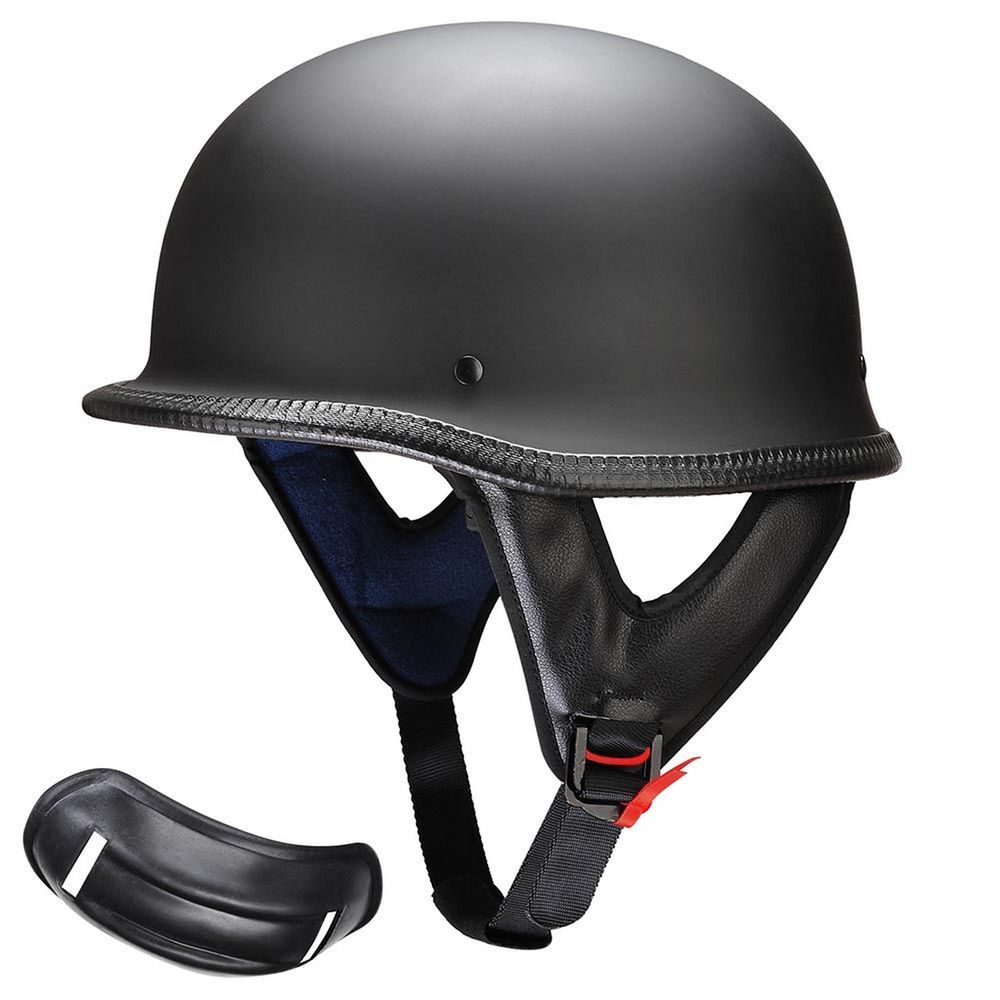helmet: (80, 24, 902, 759)
